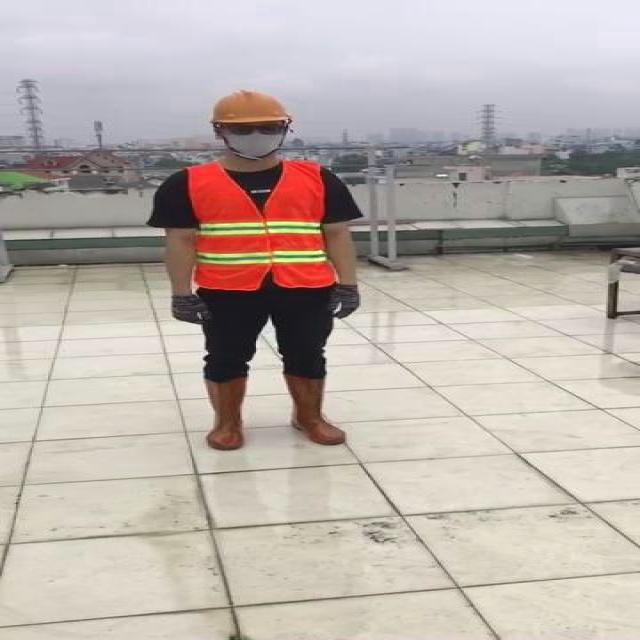boots: (278, 374, 348, 446), (198, 375, 248, 451)
face_mask: (220, 121, 290, 156)
glasses: (216, 119, 291, 139)
hand_glove: (161, 294, 214, 328), (329, 284, 366, 321)
head_helmet: (204, 88, 298, 127)
person: (143, 89, 367, 454)
vest: (185, 159, 336, 291)
